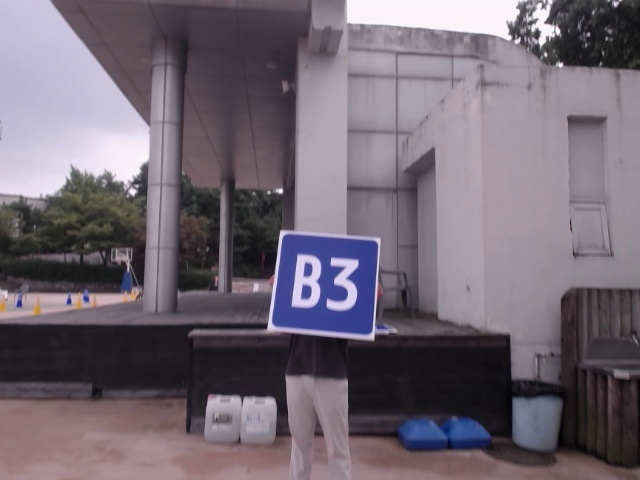delivery_b3: (272, 234, 378, 336)
